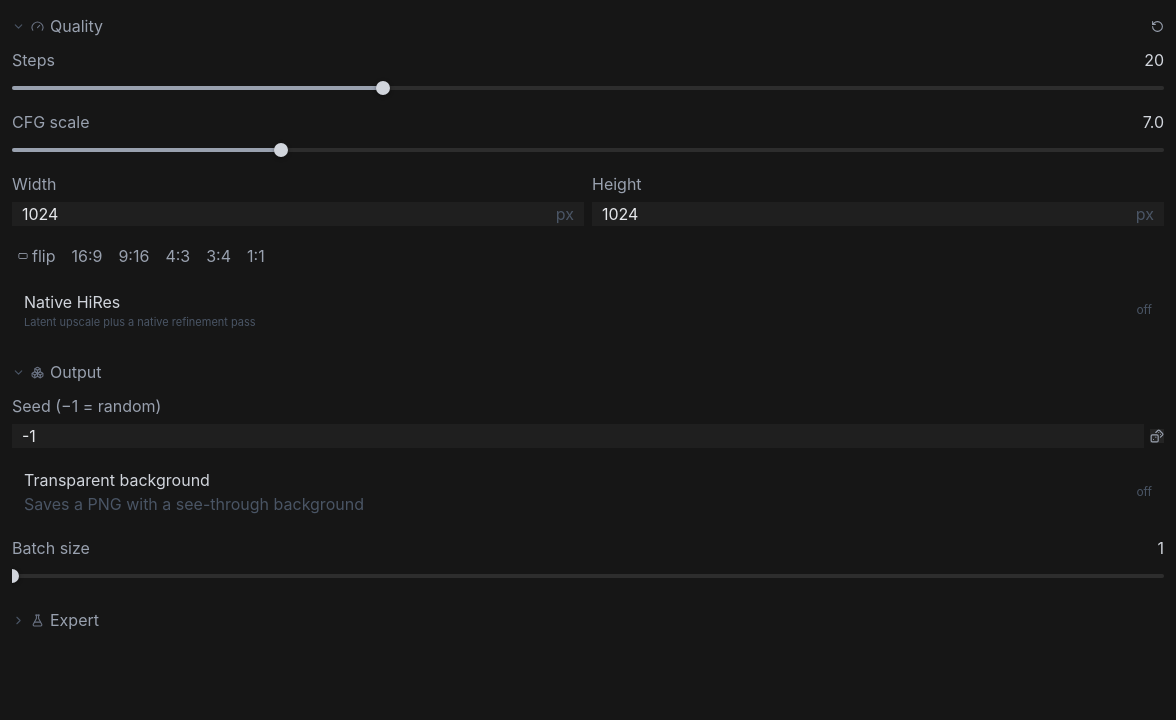
Test: row Text encoder › sits in the Expert section, not on the open surface
Expected: the button "Text encoder" is not shown
Click the button "Expert" at [56, 620], box [12, 608, 99, 632]
(page scrolled)
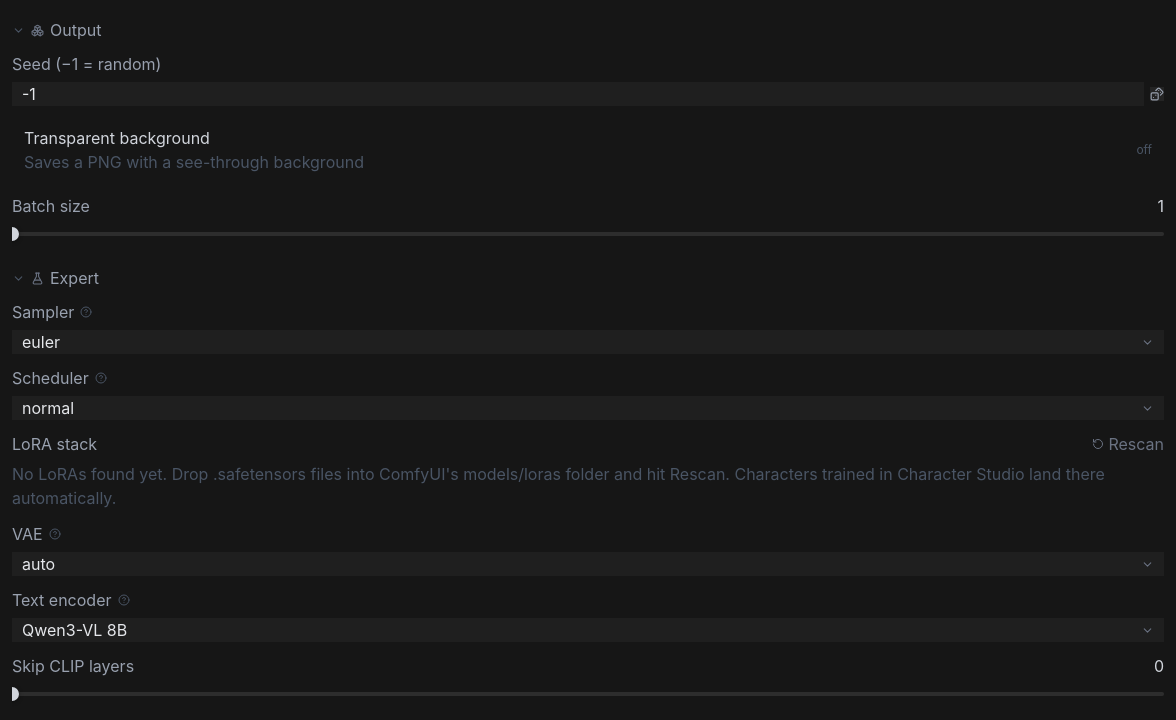
Result: the button with aria-label "Text encoder" is shown at [12, 618, 1164, 642]
Result: the text "Text encoder" is shown at [12, 588, 112, 612]
